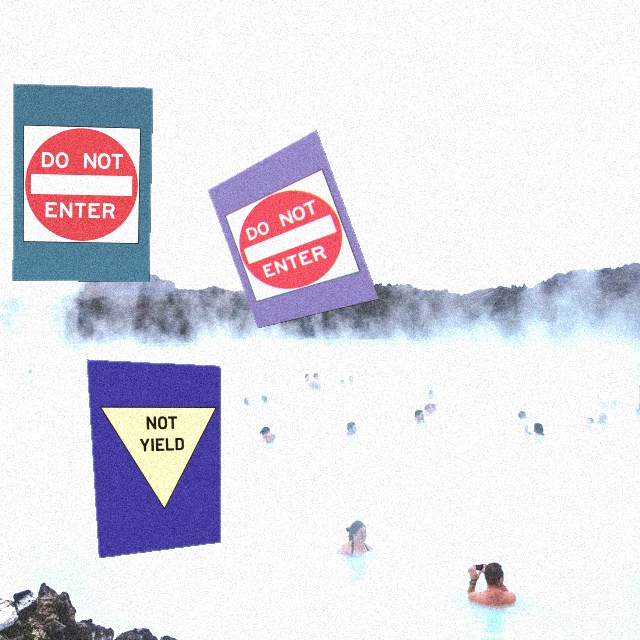DO_NOT_ENTER: (221, 167, 360, 307), (23, 125, 141, 244)
NOT_YIELD: (96, 406, 220, 516)
